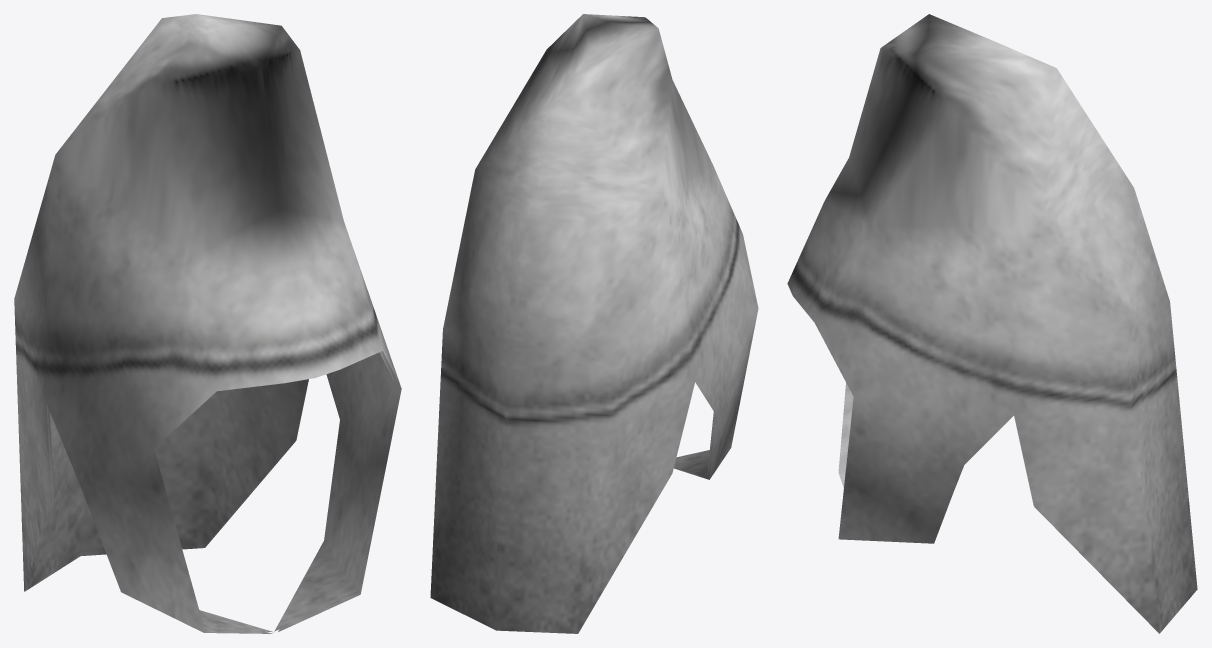
Rendered from pers_kidaris_royal_tied.dae.
3 renders of one model, left to right at view 1: azimuth 30°, elevation 25°; view 2: azimuth 150°, elevation 25°; view 3: azimuth 270°, elevation 25°, orthographic. The views are drawn at different scales.
Visible parts, largest first — view 1: pers_kidaris_tied001; view 2: pers_kidaris_tied001; view 3: pers_kidaris_tied001.
Boxes of the visible parts, box(x1,y1,x2,y2) form: pers_kidaris_tied001: box(14, 14, 401, 633); pers_kidaris_tied001: box(430, 14, 758, 633); pers_kidaris_tied001: box(787, 14, 1197, 633).
Size of the model in its own units: 0.4556 by 0.6819 by 1.02.
